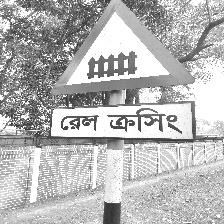Rail-crossing: (49, 0, 197, 143)
